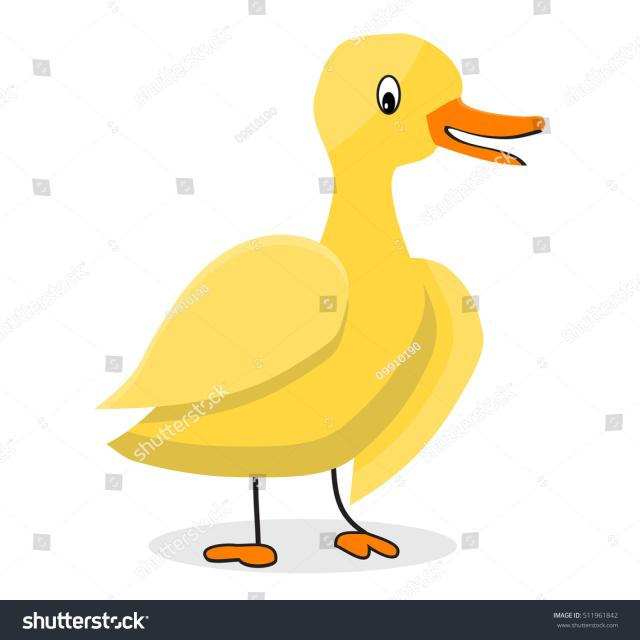Duck: (96, 33, 547, 569)
